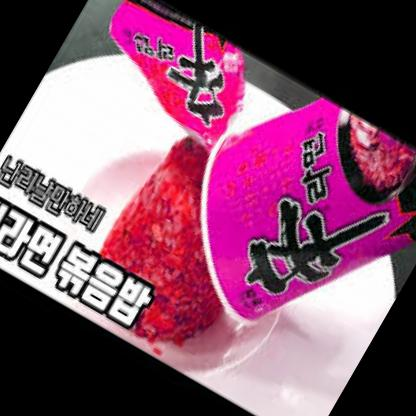Ramen: (139, 58, 416, 388)
